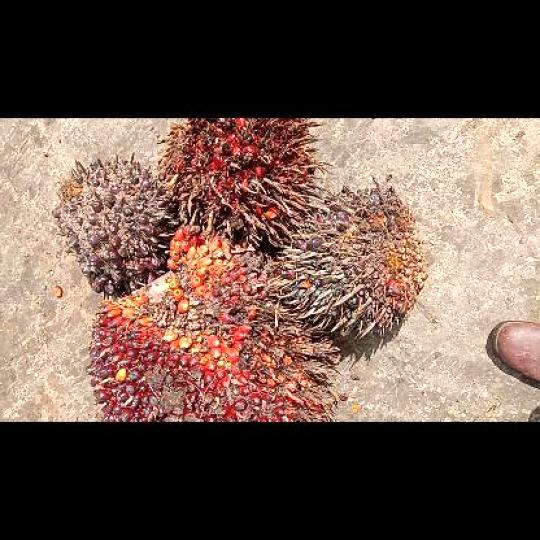kurang masak: (51, 158, 168, 294)
masak: (86, 226, 340, 420)
terlalu masak: (157, 119, 321, 252)
